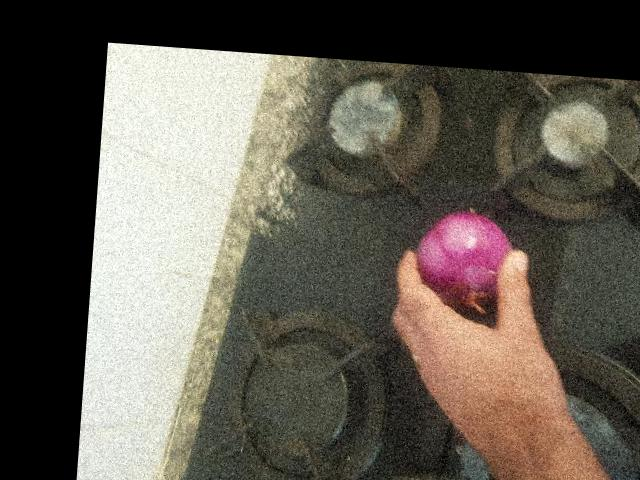onion: (234, 112, 339, 216)
